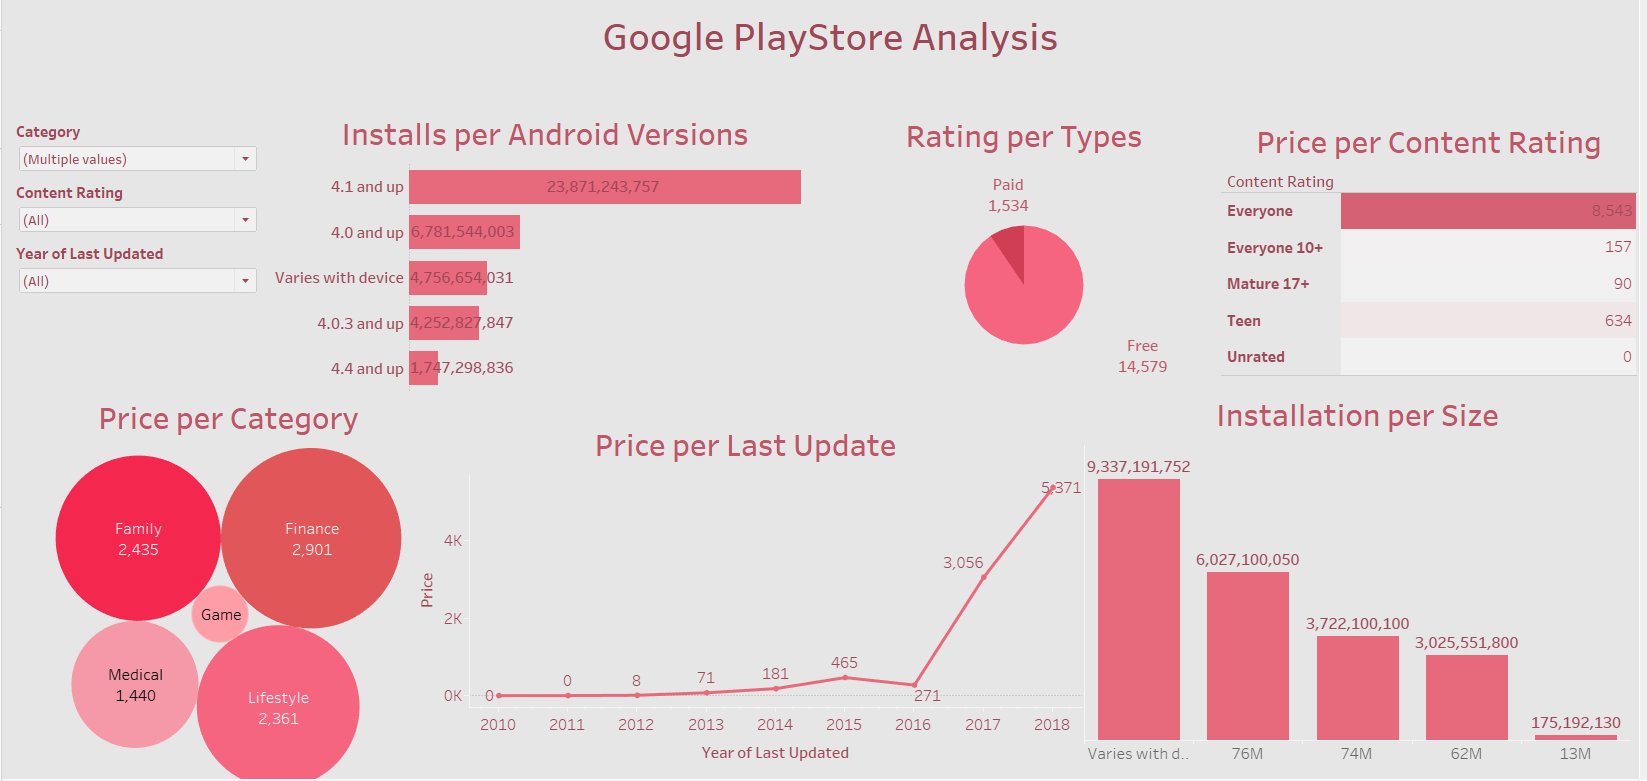

Layout of this report page (visuals, bound fields, positions):
{"tool":"tableau","page":{"name":"Dashboard 1","canvas":[1000,1000],"units":"permille","ordinal":0},"visuals":[{"type":"title","box":[4.8,6.2,990.3,45.4]},{"type":"worksheet","title":"Sheet 4","mark":"Automatic","rows":["Android Ver"],"cols":["Installs"],"box":[161.1,84.5,333.1,217.5]},{"type":"worksheet","title":"Sheet 1","mark":"Pie","box":[482.2,86.1,269.2,226]},{"type":"worksheet","title":"Sheet 5","mark":"Square","rows":["Content Rating"],"box":[735.7,90.7,251.1,199.8]},{"type":"filter","title":"Sheet 4","param":"[federated.0aw88yh0996s330zt26ng1vehxr7].[none:Category:nk]","box":[6,91.1,152.1,46.9]},{"type":"filter","title":"Sheet 4","param":"[federated.0aw88yh0996s330zt26ng1vehxr7].[none:Content Rating:nk]","box":[6,138,152.1,46.9]},{"type":"filter","title":"Sheet 4","param":"[federated.0aw88yh0996s330zt26ng1vehxr7].[yr:Last Updated:ok]","box":[6,184.9,152.1,46.9]},{"type":"worksheet","title":"Sheet 7","mark":"Automatic","rows":["Installs"],"cols":["Size"],"box":[653,300.5,330.1,300.5]},{"type":"worksheet","title":"Sheet 6","mark":"Automatic","rows":["Price"],"cols":["Last Updated"],"box":[245.6,323.6,406.2,269.8]}]}

Visuals, with their boxes on the dashboard's canvas, which has no fixed pixel size, in thousandths of its width and height (x1, y1, x2, y2). These are canvas units, not pixel positions in the 1647x781 screenshot, which may show the page scaled, cropped or inside an application window:
title: region(5, 6, 995, 52)
"Sheet 4" worksheet: region(161, 84, 494, 302)
"Sheet 1" worksheet (Pie marks): region(482, 86, 751, 312)
"Sheet 5" worksheet (Square marks): region(736, 91, 987, 290)
"Sheet 4" filter: region(6, 91, 158, 138)
"Sheet 4" filter: region(6, 138, 158, 185)
"Sheet 4" filter: region(6, 185, 158, 232)
"Sheet 7" worksheet: region(653, 300, 983, 601)
"Sheet 6" worksheet: region(246, 324, 652, 593)
